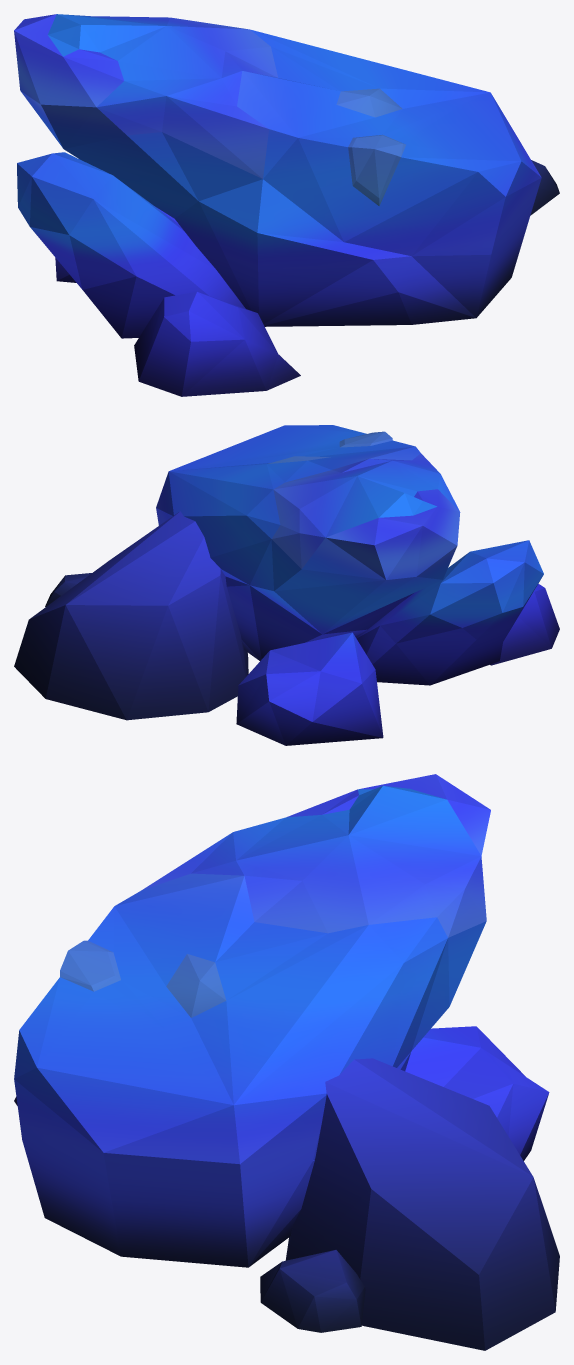
Rendered from Terrain_Snow_Rock_3.fbx.
3 views of the same model, one above another, from view 1: azimuth 30°, elevation 25°; view 2: azimuth 150°, elevation 25°; view 3: azimuth 270°, elevation 25° (orthographic). The views are drawn at different scales.
Parts seen in each view (by area): view 1: wall_obstacle_004_A; view 2: wall_obstacle_004_A; view 3: wall_obstacle_004_A.
Part boxes in pixels (x1=…): wall_obstacle_004_A: x1=14, y1=14, x2=559, y2=396; wall_obstacle_004_A: x1=14, y1=425, x2=559, y2=745; wall_obstacle_004_A: x1=14, y1=774, x2=559, y2=1350.
Size of the model in its own units: 997 by 486 by 741.
1 material, 1 textured.
